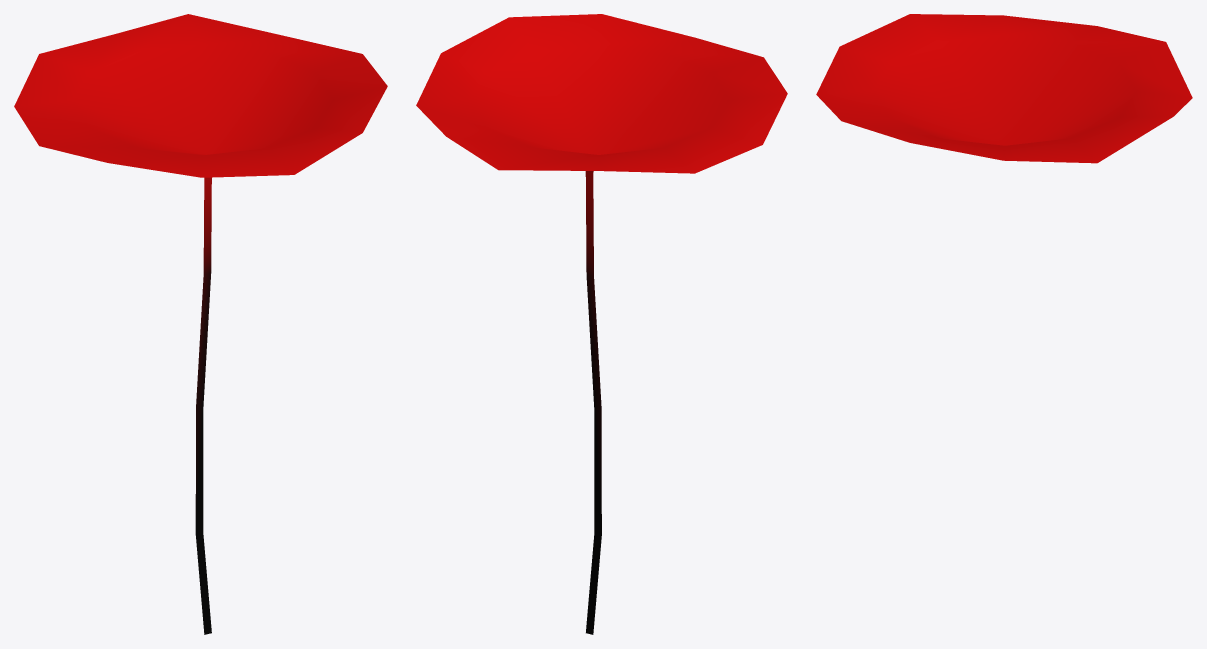
Rendered from SM_LotusLeaf_03_LOD0.fbx.
3 views of the same model, side by side, from view 1: azimuth 30°, elevation 25°; view 2: azimuth 150°, elevation 25°; view 3: azimuth 270°, elevation 25° (orthographic).
Parts seen in each view (by area): view 1: LotusLeaf_03_LOD0; view 2: LotusLeaf_03_LOD0; view 3: LotusLeaf_03_LOD0.
Boxes of the visible parts, x1,y1,x2,y2 form: LotusLeaf_03_LOD0: (14, 14, 387, 634); LotusLeaf_03_LOD0: (416, 14, 787, 634); LotusLeaf_03_LOD0: (816, 14, 1192, 163).
Bounding box in the file's own units: 136 × 221 × 136.
